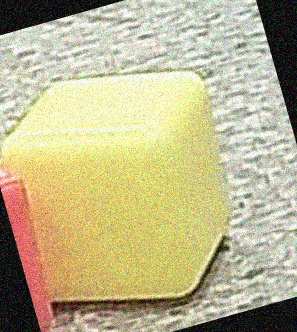yellow_cube: (1, 56, 239, 310)
